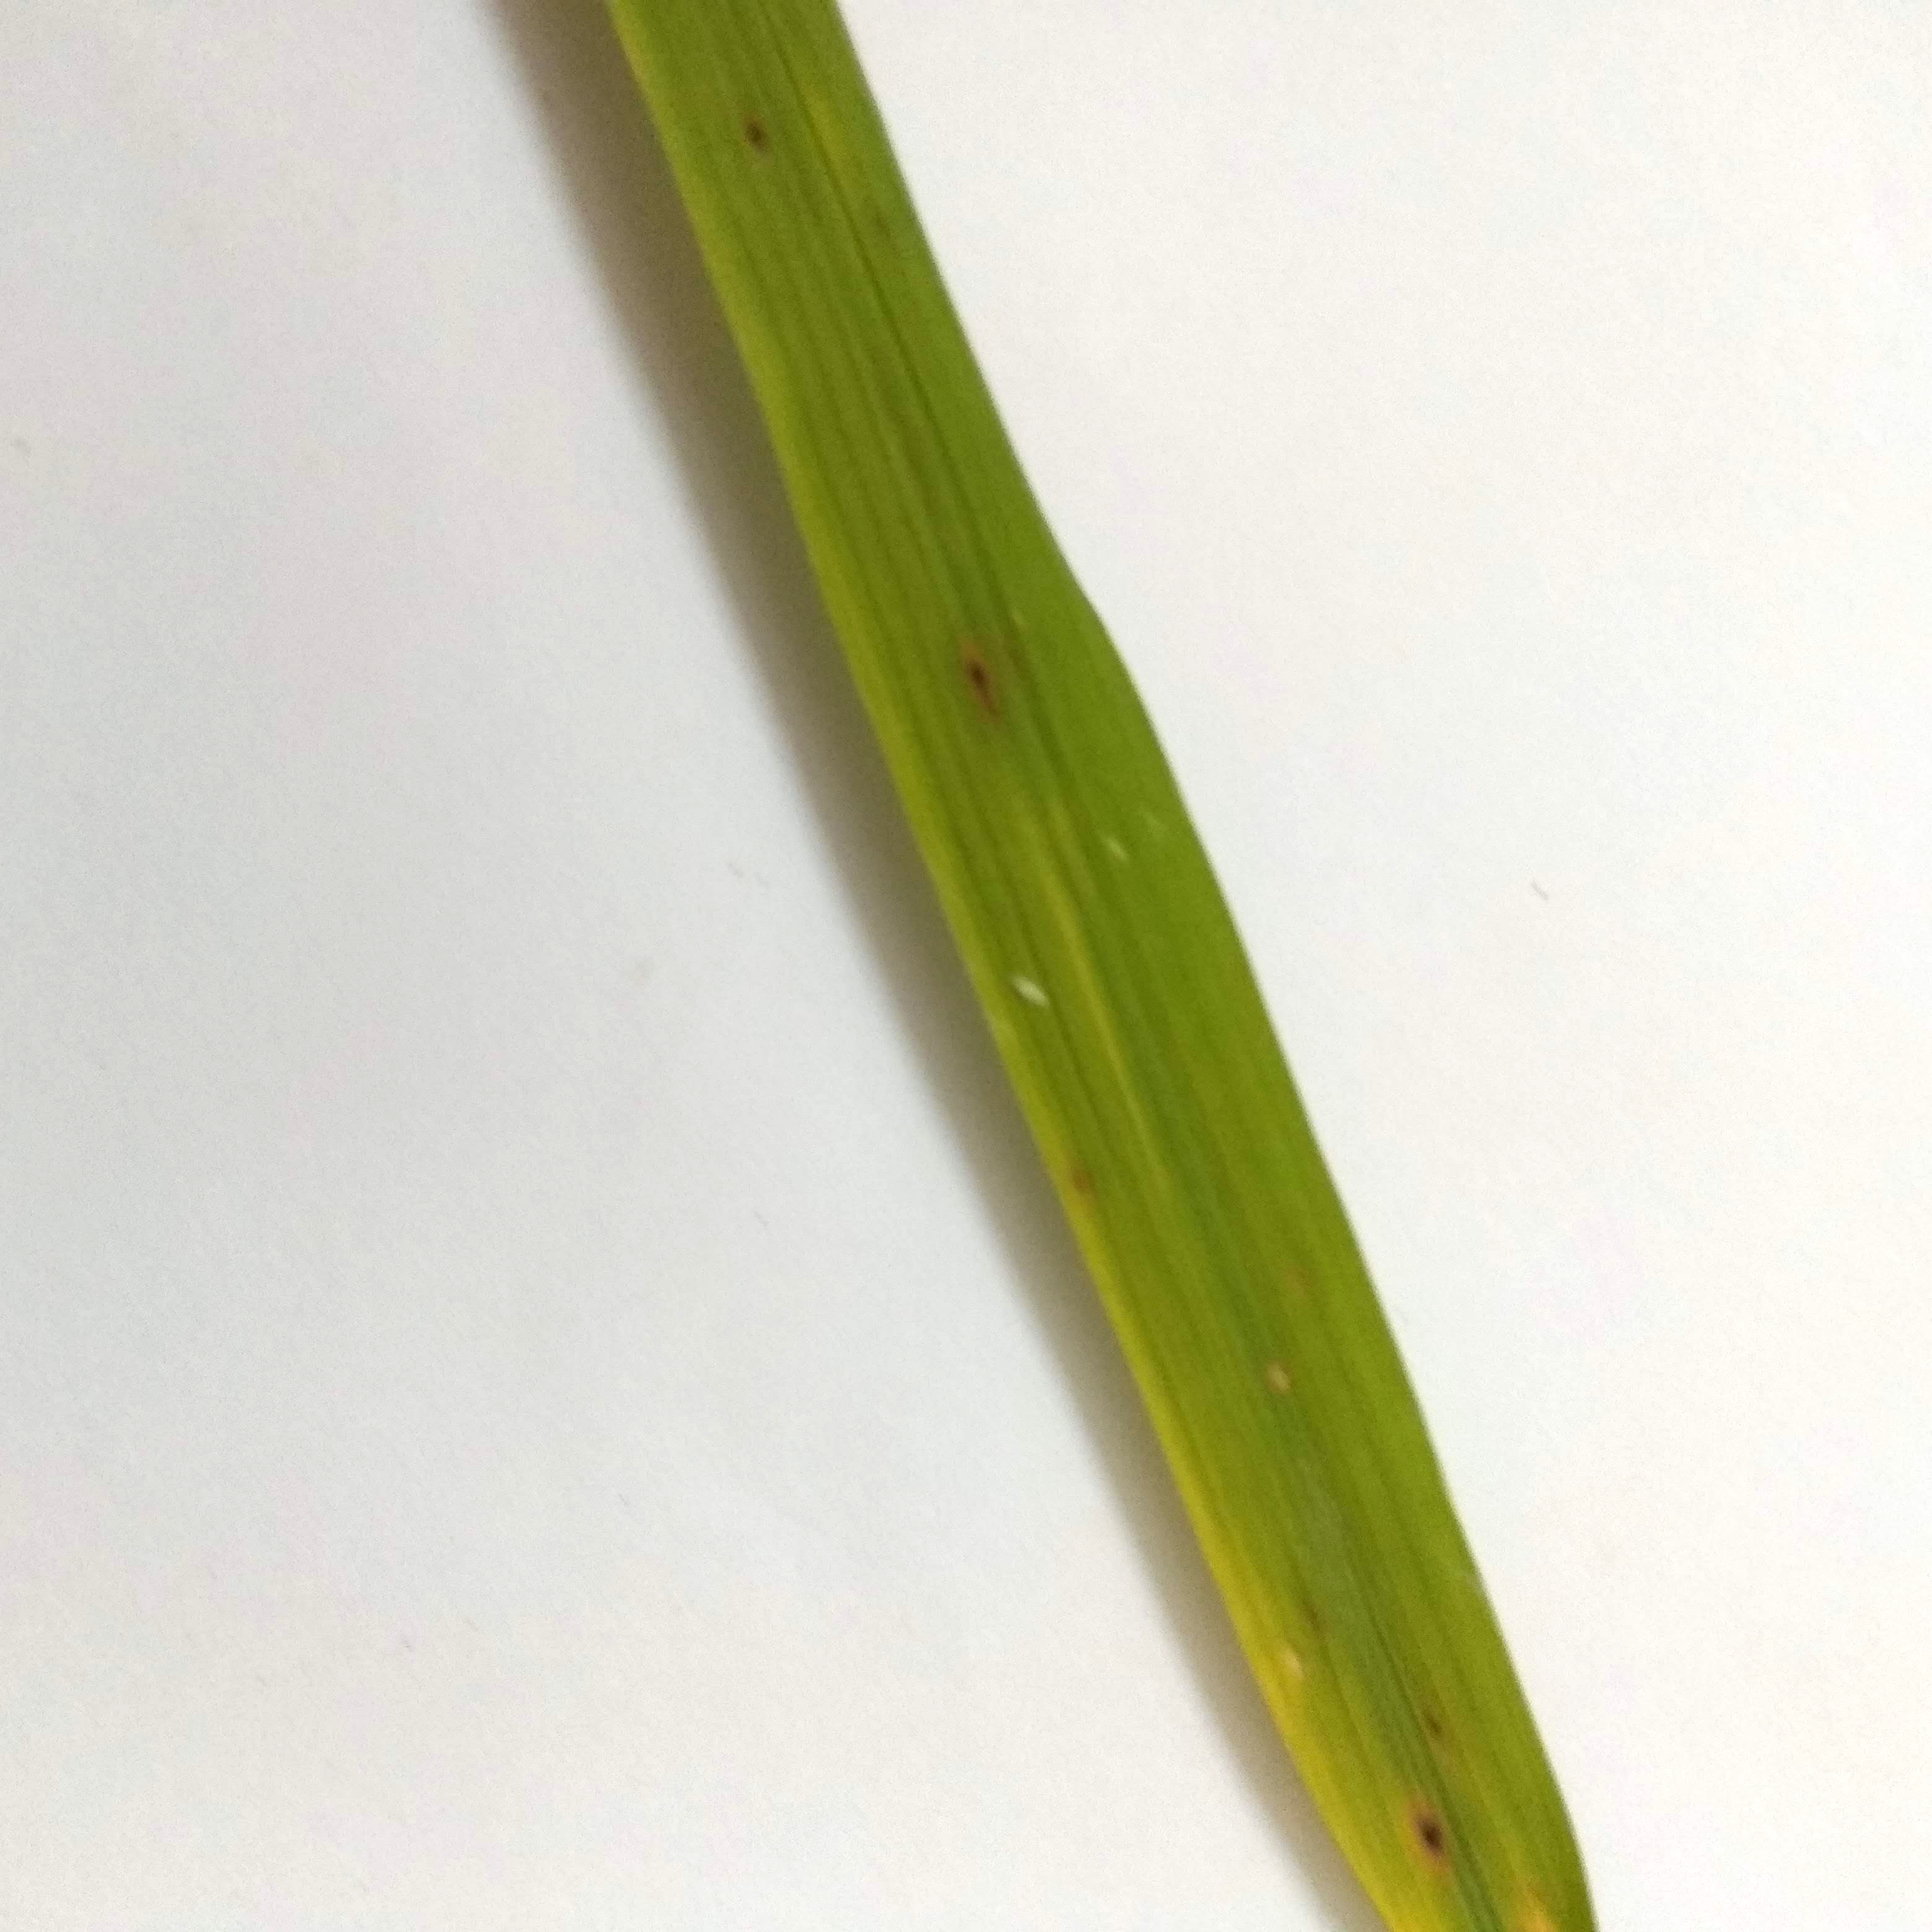brown spot: (945, 630, 1024, 736), (1046, 1142, 1128, 1224), (1386, 1803, 1463, 1874), (714, 103, 790, 162), (1404, 1688, 1463, 1750)
